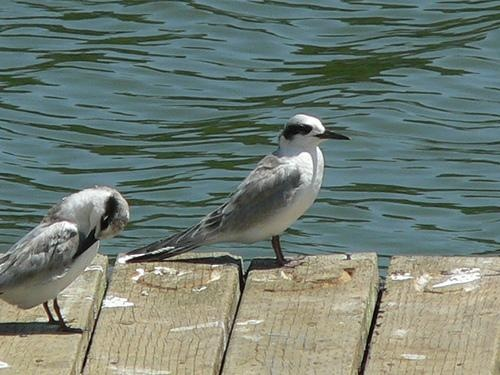bird: (128, 113, 352, 276), (2, 187, 132, 334)
